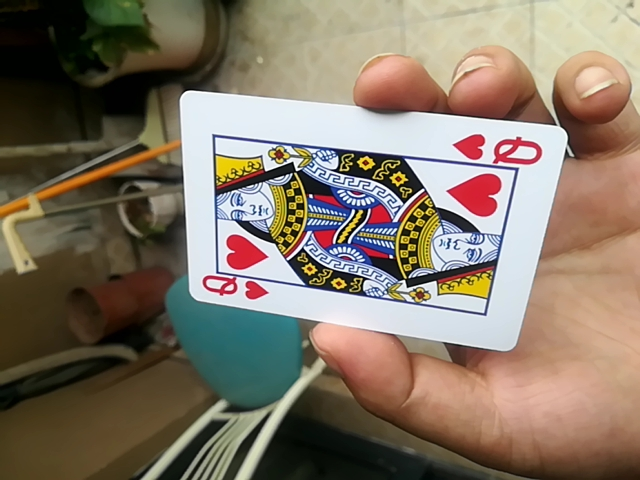hx q: (173, 87, 563, 355)
